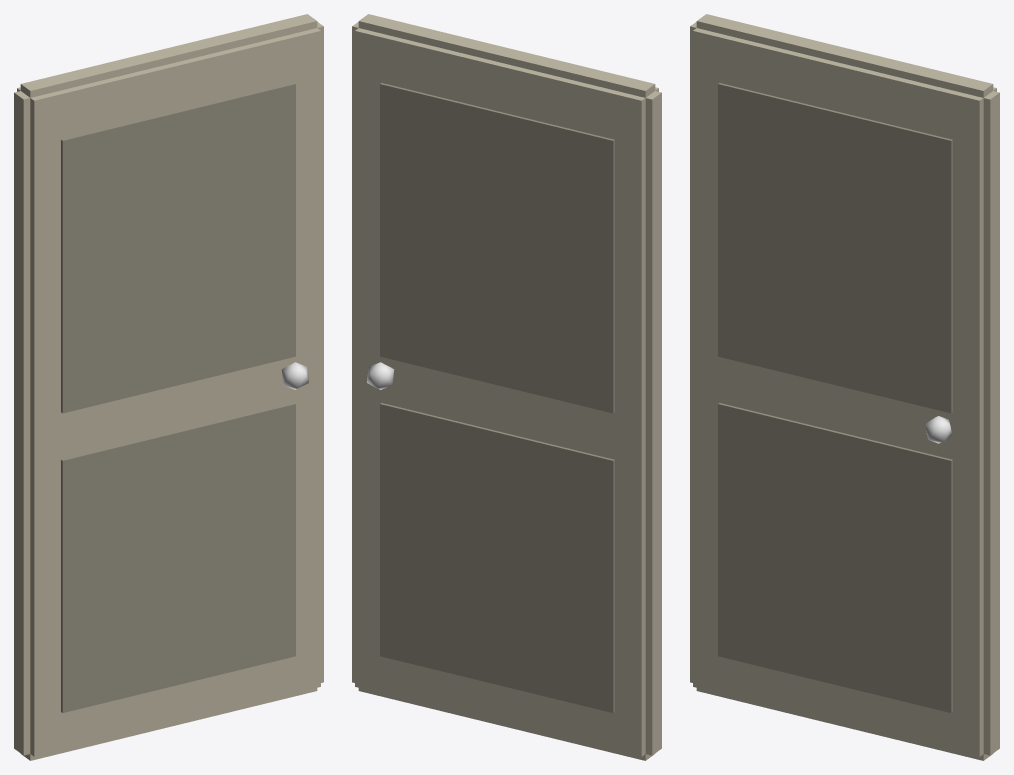
The model's file is bone_door_v0.glb.
The picture shows the model from 3 angles, left to right: view 1: azimuth 30°, elevation 25°; view 2: azimuth 150°, elevation 25°; view 3: azimuth 330°, elevation 25°; orthographic projection.
Parts seen in each view (by area): view 1: bone_door_v0; view 2: bone_door_v0; view 3: bone_door_v0.
Part boxes in pixels (bbox=[...]): bone_door_v0: bbox=[14, 14, 323, 760]; bone_door_v0: bbox=[352, 14, 661, 760]; bone_door_v0: bbox=[690, 14, 999, 760].
Bounding box in the file's own units: 0.9 × 1.92 × 0.2381.
